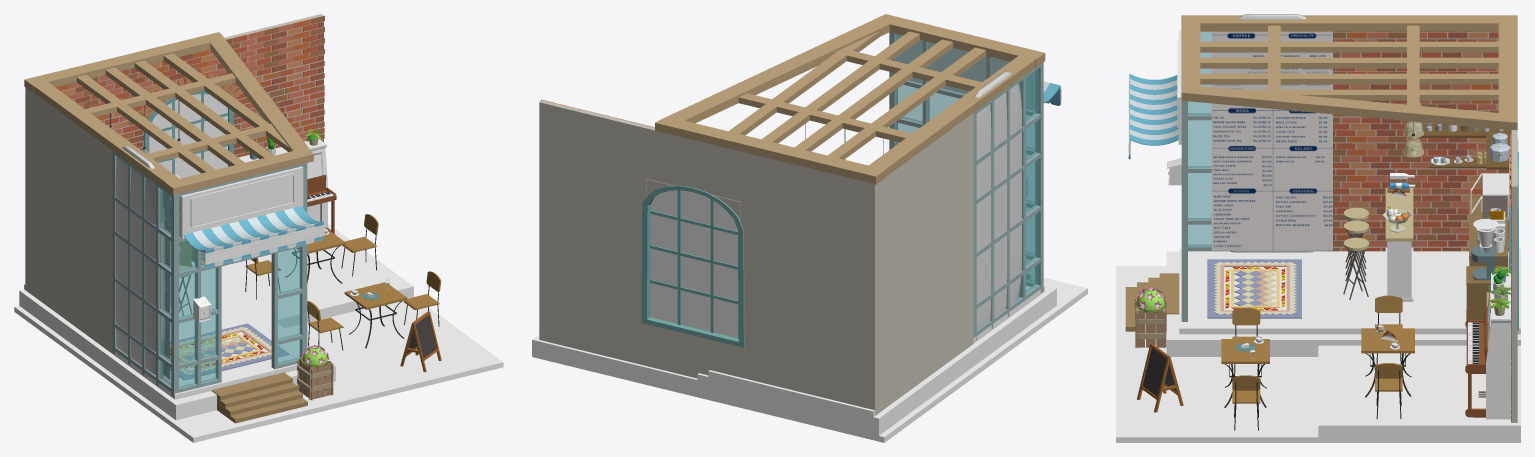
3 renders of one model, left to right at view 1: azimuth 30°, elevation 25°; view 2: azimuth 150°, elevation 25°; view 3: azimuth 270°, elevation 25°, orthographic. The views are drawn at different scales.
Parts seen in each view (by area): view 1: box_1001, box_14, box_15, Mball.001, box_539, box_16, box_560, box_166, box_1580, box_529, box_531, box_530 (+30 smaller); view 2: box_1580, box_1001, box_547, Mball.001, box_16, box_14, box_15, box_530, box_529, box_539, box_531, annulus_540 (+15 smaller); view 3: sip& play, box_14, box_15, box_166, box_530, box_1001, box_529, box_16, box_525, box_532, box_533, box_535 (+33 smaller).
Boxes of the visible parts, x1,y1,x2,y2 form: box_1001: [25, 87, 112, 353]; box_14: [14, 297, 503, 442]; box_15: [205, 224, 413, 328]; Mball.001: [115, 146, 164, 374]; box_539: [179, 197, 301, 388]; box_16: [19, 261, 335, 420]; box_560: [179, 166, 303, 238]; box_166: [24, 266, 299, 399]; box_1580: [60, 14, 323, 156]; box_529: [25, 76, 188, 195]; box_531: [24, 32, 224, 92]; box_530: [205, 34, 312, 155]; box_1580: [539, 100, 874, 409]; box_1001: [869, 113, 973, 415]; box_547: [650, 190, 738, 338]; Mball.001: [974, 71, 1021, 329]; box_16: [697, 285, 1056, 435]; box_14: [532, 275, 1087, 442]; box_15: [532, 335, 873, 434]; box_530: [658, 14, 897, 125]; box_529: [859, 56, 1034, 184]; box_539: [896, 34, 1034, 281]; box_531: [655, 116, 885, 184]; annulus_540: [641, 185, 744, 347]; sip& play: [1211, 31, 1332, 250]; box_14: [1116, 266, 1520, 442]; box_15: [1318, 345, 1520, 437]; box_166: [1179, 248, 1520, 334]; box_530: [1183, 85, 1515, 130]; box_1001: [1333, 31, 1508, 251]; box_529: [1181, 15, 1517, 31]; box_16: [1166, 251, 1520, 356]; box_525: [1188, 31, 1211, 246]; box_532: [1200, 41, 1498, 52]; box_533: [1200, 57, 1498, 68]; box_535: [1200, 73, 1498, 84].
Bounding box in the file's own units: 6.4 × 4.61 × 6.4.
101 materials, 1 textured.
